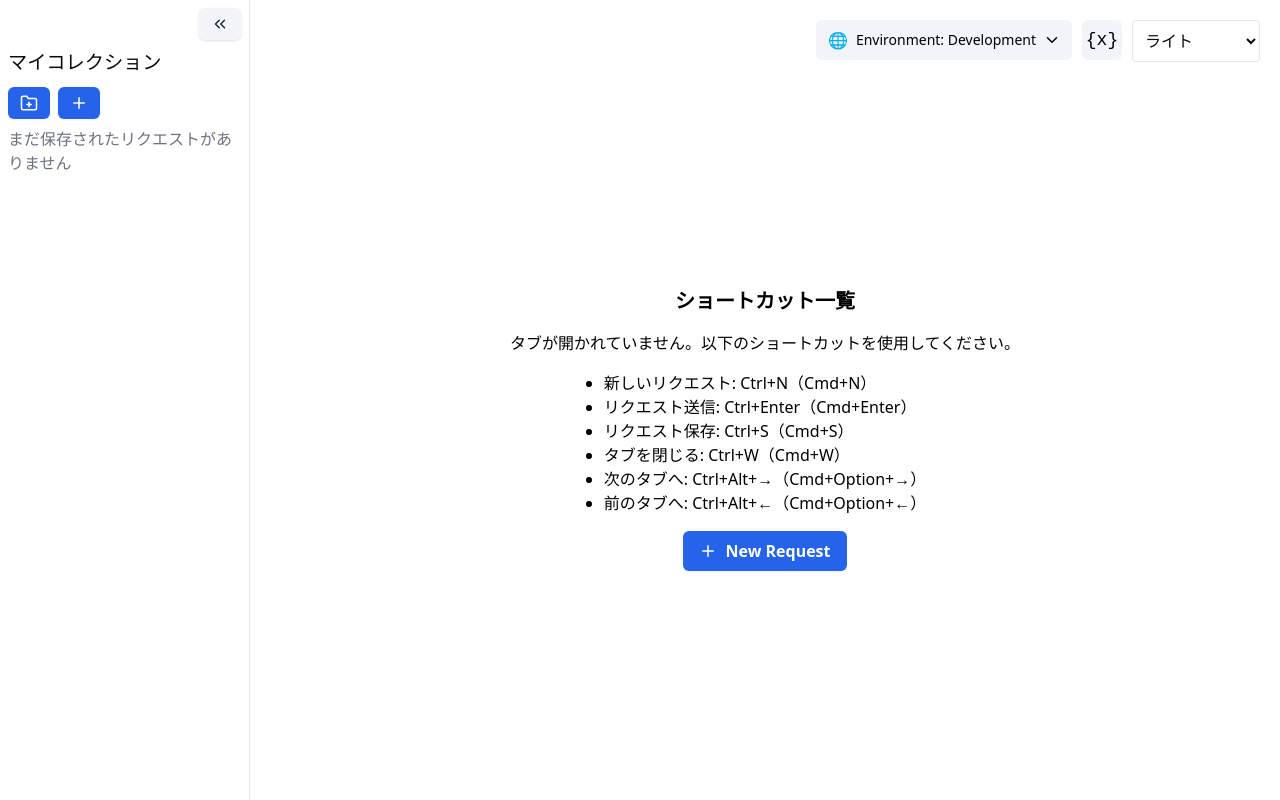
Test case: App integration › 新規保存したリクエストがサイドバーに表示される
Step 1. Click the button named "新しいリクエスト" → (79,103), box [58,87,100,119]
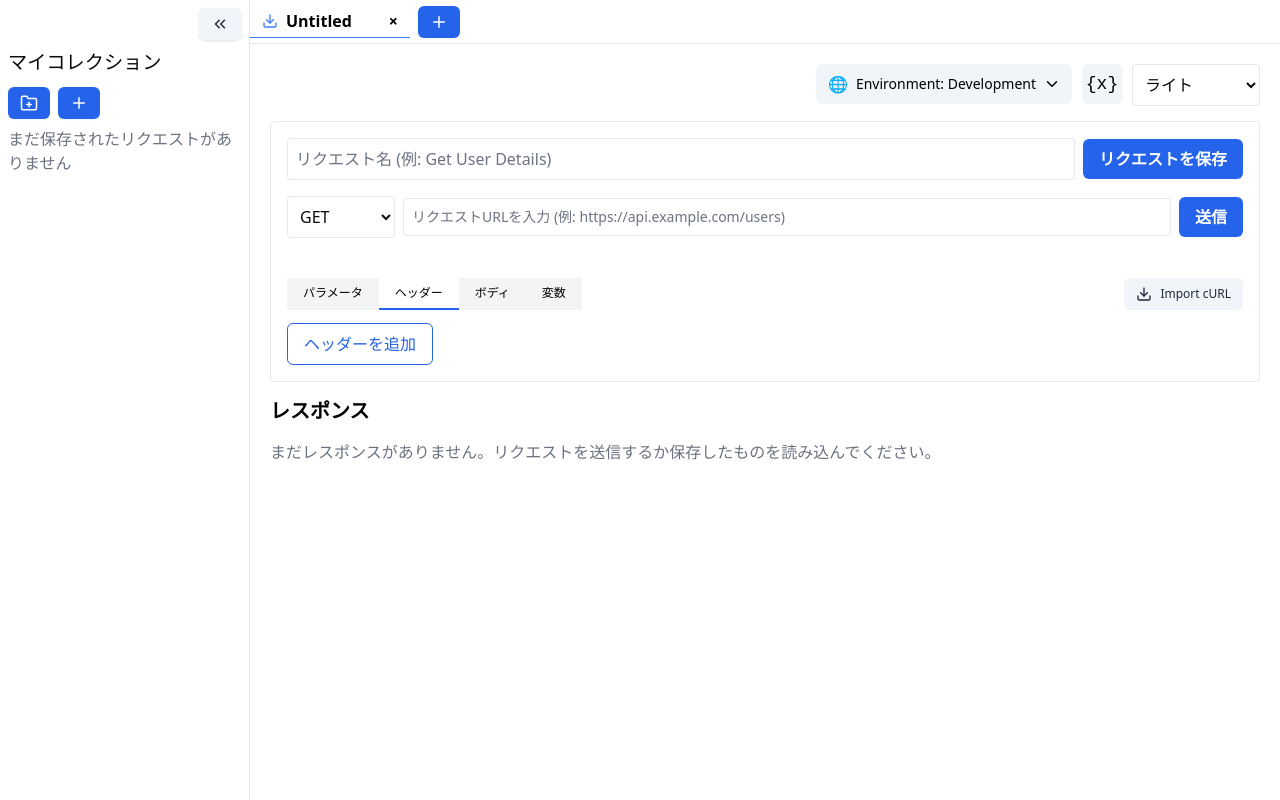
Step 2. Type "テストリクエスト" into the field with placeholder "リクエスト名 (例: Get User Details)" → (681,159), box [287,138,1075,180]
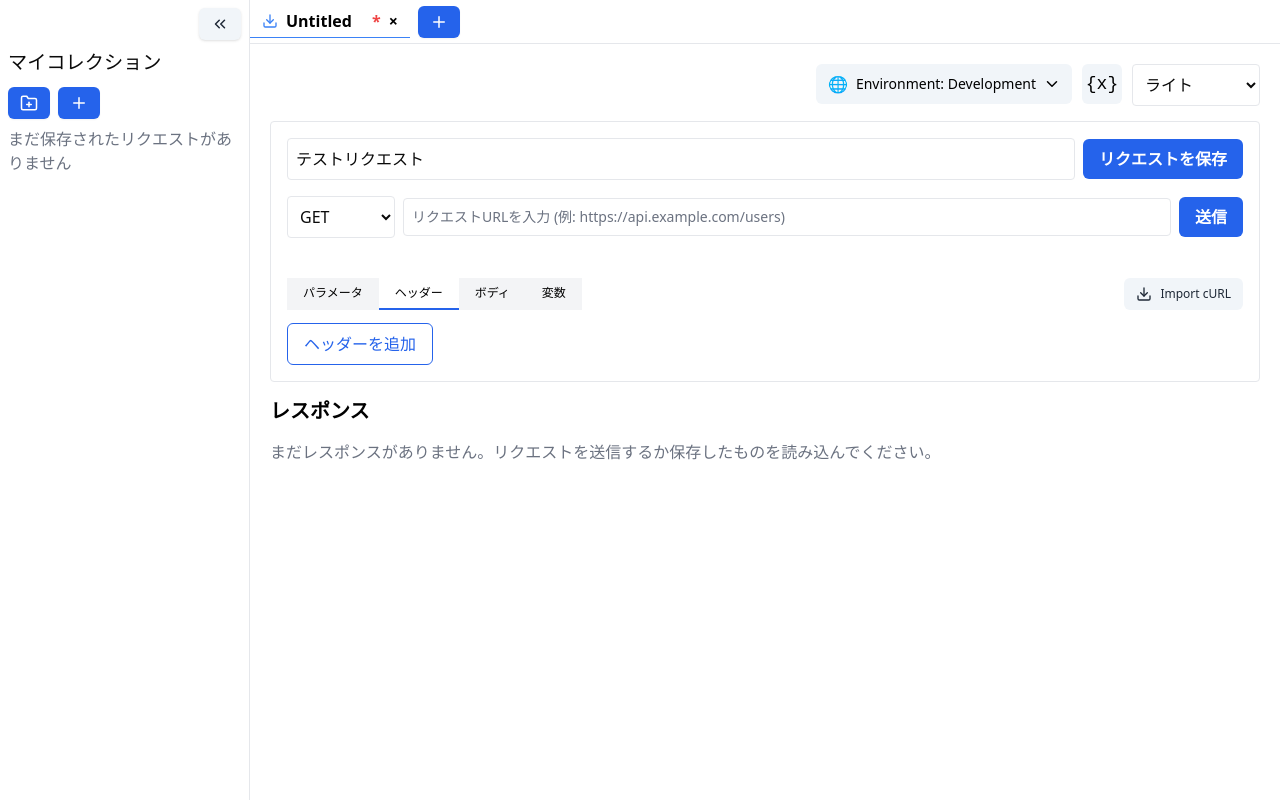
Step 3. Type "https://example.com" into the field with placeholder "リクエストURLを入力 (例: https://api.example.com/users)" → (787,217), box [403,198,1171,236]
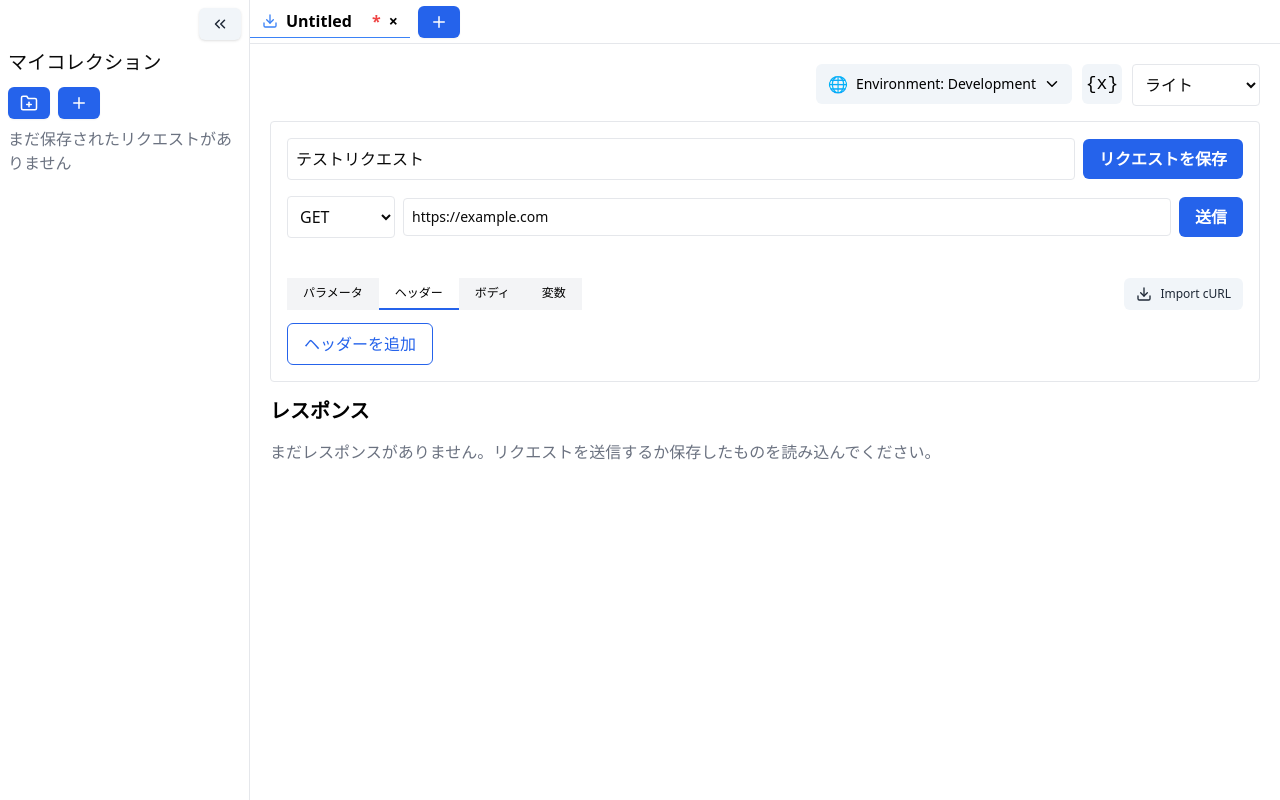
Step 4. Click the button "リクエストを保存" → (1163,159), box [1083,139,1243,179]
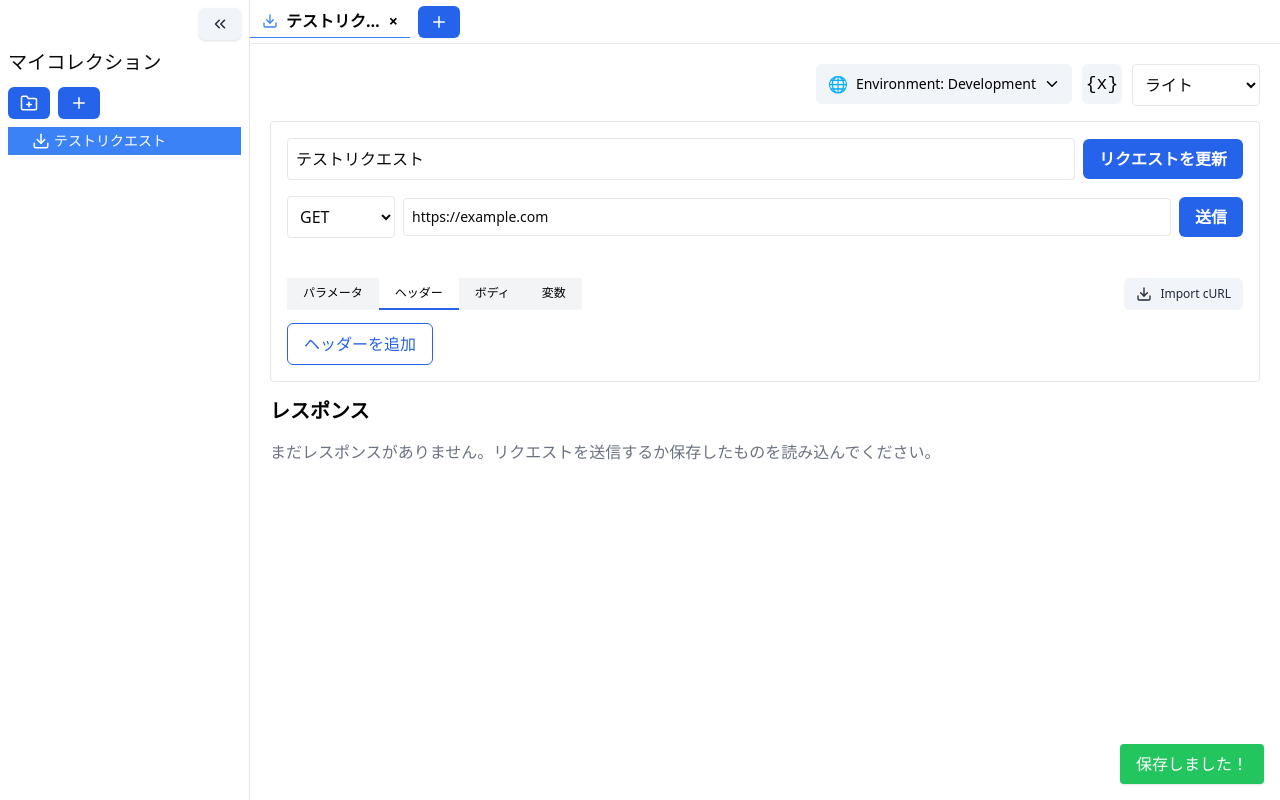
Expected: the text "テストリクエスト" below "マイコレクション" is shown, [54,131,166,150]
